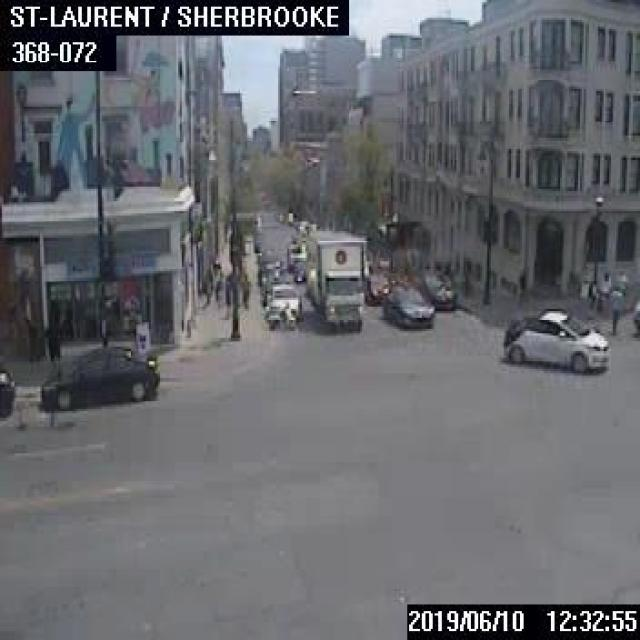pedestrian: (607, 282, 622, 332), (238, 271, 249, 309)
vehicle: (40, 342, 160, 409), (500, 307, 609, 371), (302, 229, 365, 330), (382, 283, 434, 327), (412, 268, 456, 308), (265, 281, 300, 319), (262, 300, 295, 328), (363, 273, 391, 302), (0, 364, 13, 416), (291, 260, 303, 280)
